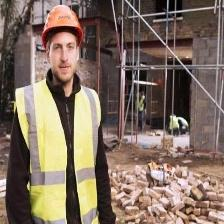Person: (10, 6, 110, 214)
helmet: (41, 5, 84, 42)
vest: (10, 76, 104, 213)
